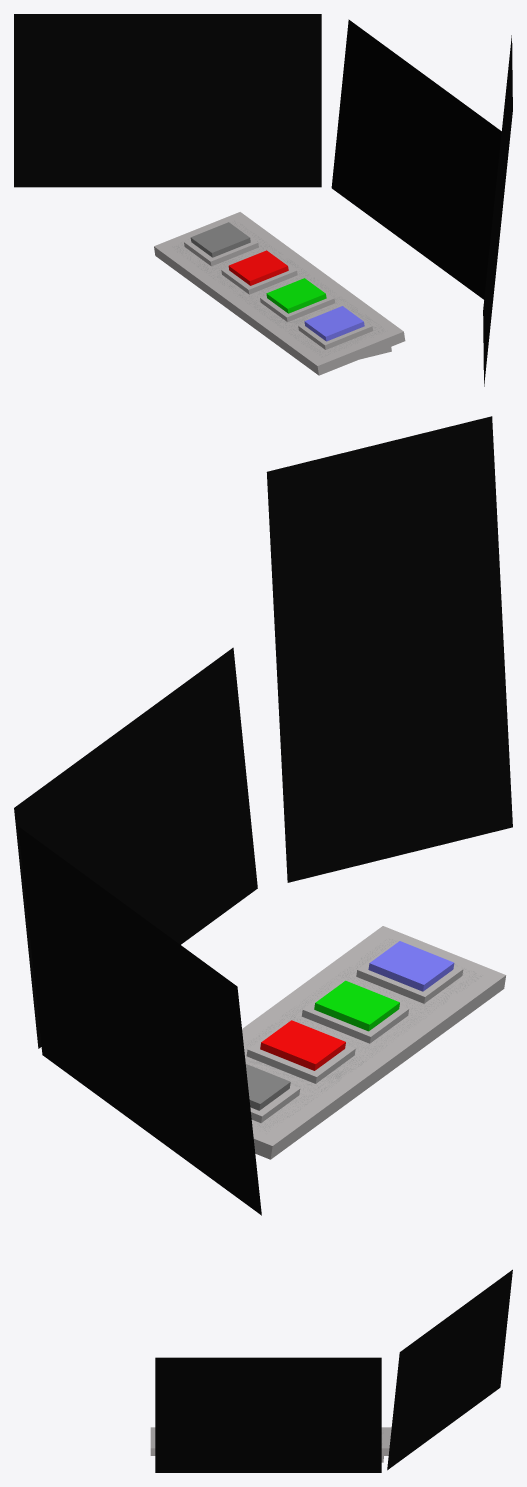
File: maxtower_01_interactive.glb
3 views of the same model, one above another, from view 1: azimuth 30°, elevation 25°; view 2: azimuth 150°, elevation 25°; view 3: azimuth 270°, elevation 25° (orthographic). The views are drawn at different scales.
Visible parts, largest first — view 1: group_0.002, group_0.001, group_7, group_7.001, group_0, group_5, group_2, group_3, group_4, group_7.003, group_7.002, group_7.004 (+1 smaller); view 2: group_0, group_0.002, group_0.001, group_7, group_7.001, group_3, group_4, group_5, group_7.003, group_7.002, group_7.005, group_2; view 3: group_0.001, group_0.002, group_7.
Boxes of the visible parts, x1=… form: group_0.002: x1=14, y1=14, x2=321, y2=187; group_0.001: x1=331, y1=19, x2=501, y2=299; group_7: x1=154, y1=212, x2=405, y2=375; group_7.001: x1=169, y1=220, x2=387, y2=357; group_0: x1=483, y1=35, x2=512, y2=386; group_5: x1=304, y1=306, x2=364, y2=341; group_2: x1=190, y1=222, x2=250, y2=257; group_3: x1=266, y1=278, x2=326, y2=313; group_4: x1=228, y1=250, x2=288, y2=285; group_7.003: x1=221, y1=250, x2=297, y2=294; group_7.002: x1=260, y1=278, x2=335, y2=322; group_7.004: x1=184, y1=223, x2=258, y2=266; group_0: x1=266, y1=416, x2=512, y2=882; group_0.002: x1=18, y1=826, x2=261, y2=1215; group_0.001: x1=14, y1=647, x2=257, y2=1048; group_7: x1=242, y1=926, x2=506, y2=1159; group_7.001: x1=243, y1=937, x2=483, y2=1134; group_3: x1=314, y1=980, x2=399, y2=1031; group_4: x1=260, y1=1020, x2=345, y2=1070; group_5: x1=368, y1=941, x2=454, y2=991; group_7.003: x1=246, y1=1021, x2=355, y2=1083; group_7.002: x1=301, y1=981, x2=409, y2=1043; group_7.005: x1=356, y1=942, x2=463, y2=1003; group_2: x1=245, y1=1064, x2=290, y2=1110; group_0.001: x1=155, y1=1357, x2=381, y2=1472; group_0.002: x1=387, y1=1269, x2=512, y2=1470; group_7: x1=150, y1=1427, x2=391, y2=1462.
Size of the model in its own units: 0.56 by 0.6496 by 1.29.
